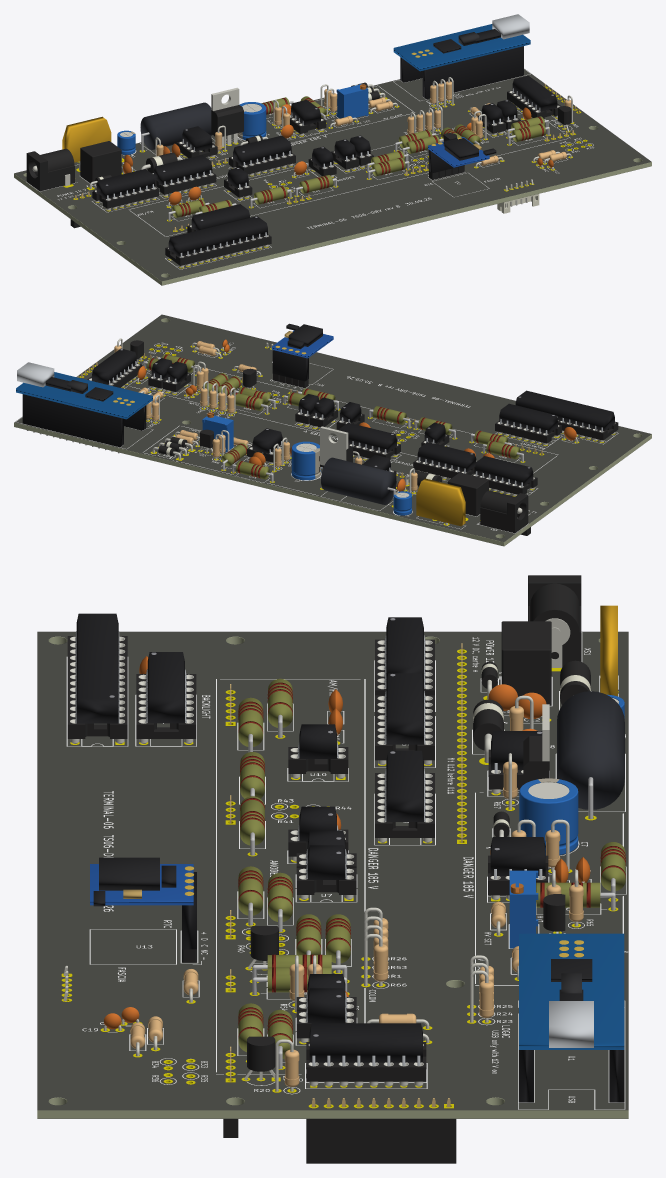
The model's file is TS06-DRV-populated.glb.
3 renders of one model, top to bottom at view 1: azimuth 30°, elevation 25°; view 2: azimuth 150°, elevation 25°; view 3: azimuth 270°, elevation 25°, orthographic. The views are drawn at different scales.
Visible parts, largest first — view 1: =>[0:1:1:73], =>[0:1:1:75], =>[0:1:1:29], =>[0:1:1:25] (×5), =>[0:1:1:71], =>[0:1:1:21] (×6), =>[0:1:1:23] (×4), =>[0:1:1:33], =>[0:1:1:15], =>[0:1:1:57], =>[0:1:1:45], =>[0:1:1:55] (+9 smaller); view 2: =>[0:1:1:73], =>[0:1:1:75], =>[0:1:1:29], =>[0:1:1:25] (×5), =>[0:1:1:21] (×6), =>[0:1:1:23] (×5), =>[0:1:1:71], =>[0:1:1:15], =>[0:1:1:45], =>[0:1:1:33], =>[0:1:1:11], =>[0:1:1:57] (+9 smaller); view 3: =>[0:1:1:73], =>[0:1:1:75], =>[0:1:1:25] (×5), =>[0:1:1:21] (×14), =>[0:1:1:29], =>[0:1:1:71], =>[0:1:1:23] (×5), =>[0:1:1:59], =>[0:1:1:15], =>[0:1:1:45], =>[0:1:1:37] (×4), =>[0:1:1:33] (+13 smaller).
Boxes of the visible parts, <box> form: =>[0:1:1:73]: <box>14,69,651,281</box>; =>[0:1:1:75]: <box>14,70,651,285</box>; =>[0:1:1:29]: <box>393,14,530,99</box>; =>[0:1:1:25] (×5): <box>96,75,557,230</box>; =>[0:1:1:71]: <box>26,68,593,269</box>; =>[0:1:1:21] (×6): <box>168,123,549,220</box>; =>[0:1:1:23] (×4): <box>92,90,560,210</box>; =>[0:1:1:33]: <box>168,216,267,257</box>; =>[0:1:1:15]: <box>140,102,212,151</box>; =>[0:1:1:57]: <box>26,148,74,191</box>; =>[0:1:1:45]: <box>428,137,496,173</box>; =>[0:1:1:55]: <box>211,87,243,146</box>; =>[0:1:1:73]: <box>14,314,651,541</box>; =>[0:1:1:75]: <box>14,315,651,546</box>; =>[0:1:1:29]: <box>16,362,152,453</box>; =>[0:1:1:25] (×5): <box>92,348,557,487</box>; =>[0:1:1:21] (×6): <box>221,392,523,482</box>; =>[0:1:1:23] (×5): <box>87,363,561,496</box>; =>[0:1:1:71]: <box>16,342,618,533</box>; =>[0:1:1:15]: <box>321,457,396,506</box>; =>[0:1:1:45]: <box>272,323,333,381</box>; =>[0:1:1:33]: <box>515,390,614,431</box>; =>[0:1:1:11]: <box>416,478,465,526</box>; =>[0:1:1:57]: <box>480,490,528,533</box>; =>[0:1:1:73]: <box>37,631,628,1110</box>; =>[0:1:1:75]: <box>37,632,628,1118</box>; =>[0:1:1:25] (×5): <box>145,617,425,1065</box>; =>[0:1:1:21] (×14): <box>238,678,625,1068</box>; =>[0:1:1:29]: <box>519,933,624,1102</box>; =>[0:1:1:71]: <box>66,632,627,1109</box>; =>[0:1:1:23] (×5): <box>136,639,434,1086</box>; =>[0:1:1:59]: <box>306,1098,456,1163</box>; =>[0:1:1:15]: <box>557,691,624,819</box>; =>[0:1:1:45]: <box>90,857,196,949</box>; =>[0:1:1:37] (×4): <box>297,724,347,1023</box>; =>[0:1:1:33]: <box>75,613,119,723</box>.
Bounding box in the file's own units: 0.1936 × 0.029 × 0.1.
